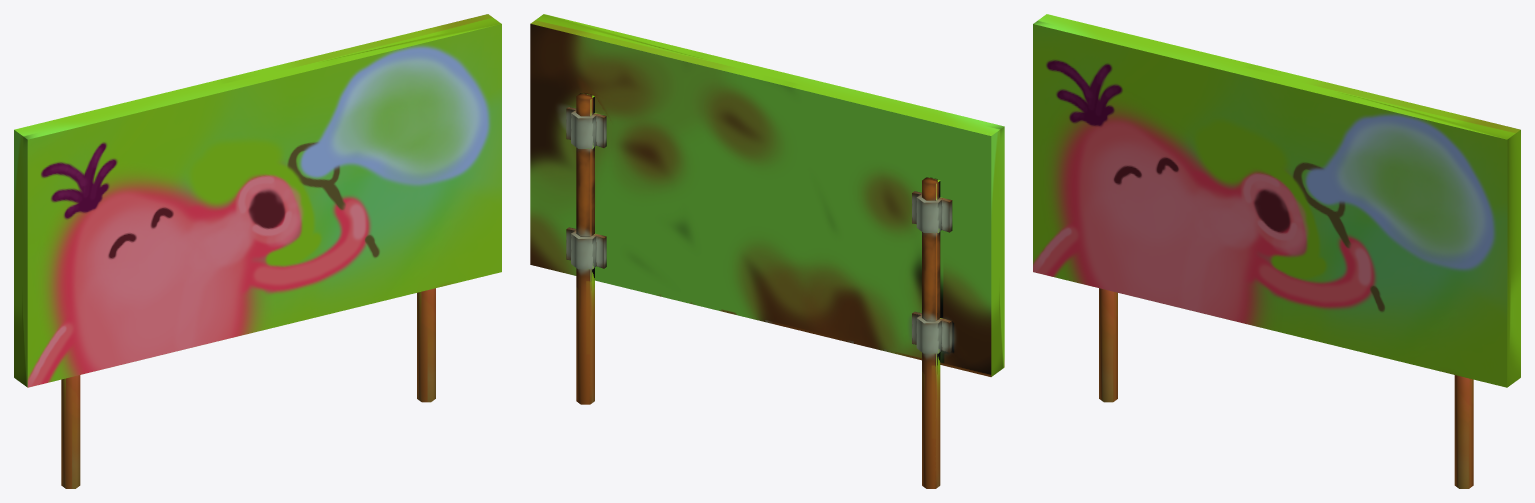
The model's file is Sign.fbx.
3 views of the same model, side by side, from view 1: azimuth 30°, elevation 25°; view 2: azimuth 150°, elevation 25°; view 3: azimuth 330°, elevation 25° (orthographic). The views are drawn at different scales.
Parts seen in each view (by area): view 1: Sign; view 2: Sign; view 3: Sign.
Boxes of the visible parts, <box> form: Sign: <box>14,14,501,488</box>; Sign: <box>530,14,1004,488</box>; Sign: <box>1033,14,1520,488</box>.
Size of the model in its own units: 400 by 300 by 34.7.
1 material, 1 textured.
